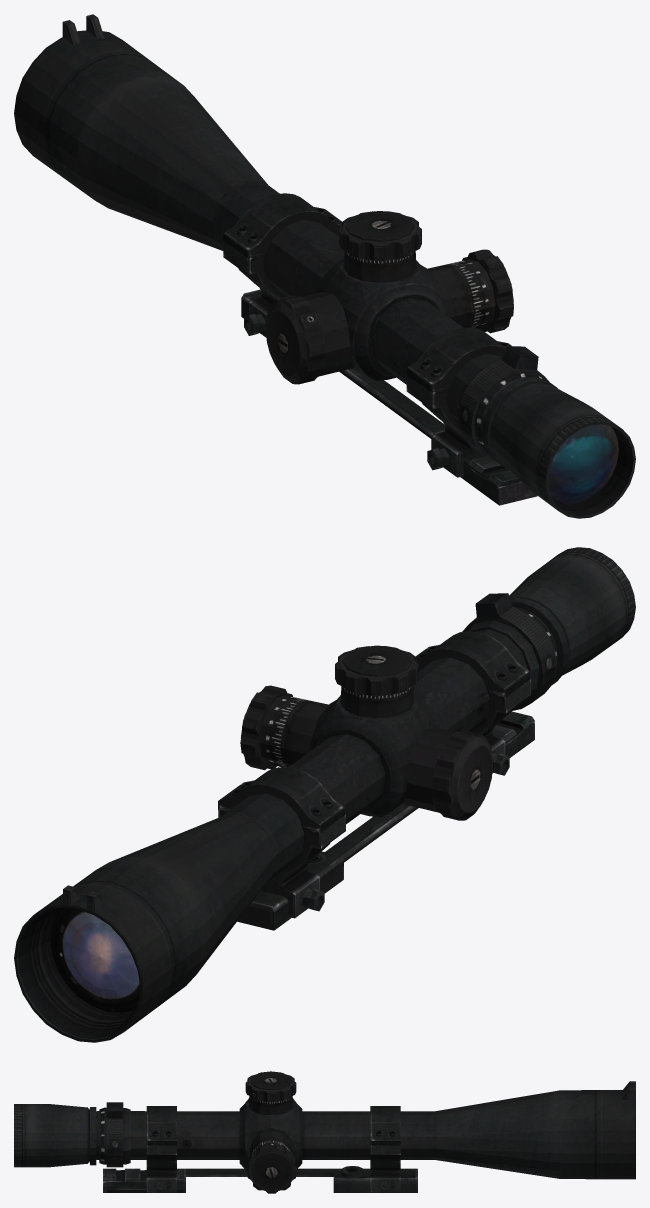
File: Scope.fbx
The picture shows the model from 3 angles, top to bottom: view 1: azimuth 30°, elevation 25°; view 2: azimuth 150°, elevation 25°; view 3: azimuth 270°, elevation 25°; orthographic projection. The views are drawn at different scales.
Parts seen in each view (by area): view 1: Scope, Lens; view 2: Scope; view 3: Scope.
Boxes of the visible parts, bbox=[...] form: Scope: bbox=[14, 14, 635, 518]; Lens: bbox=[548, 424, 618, 505]; Scope: bbox=[14, 547, 635, 1042]; Scope: bbox=[14, 1071, 635, 1193].
Size of the model in its own units: 0.2444 by 0.1909 by 1.01.
